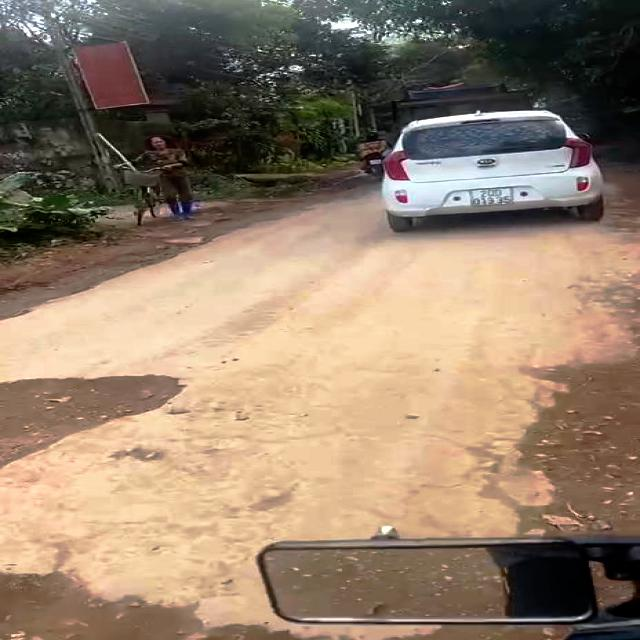pothole: (514, 360, 640, 538), (0, 366, 197, 476), (0, 571, 274, 639)
